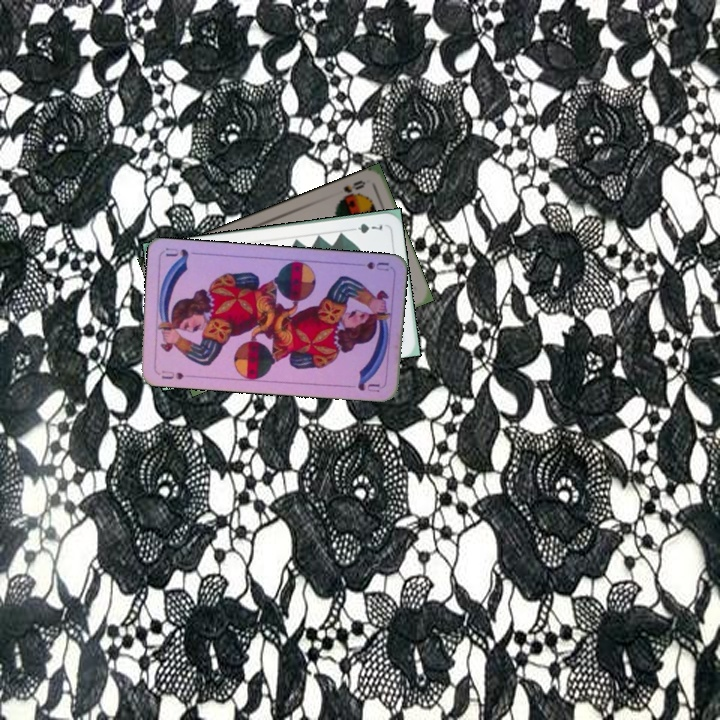G7: (346, 219, 385, 236)
SO: (335, 176, 368, 203)
SU: (158, 366, 187, 382), (363, 258, 391, 273)
